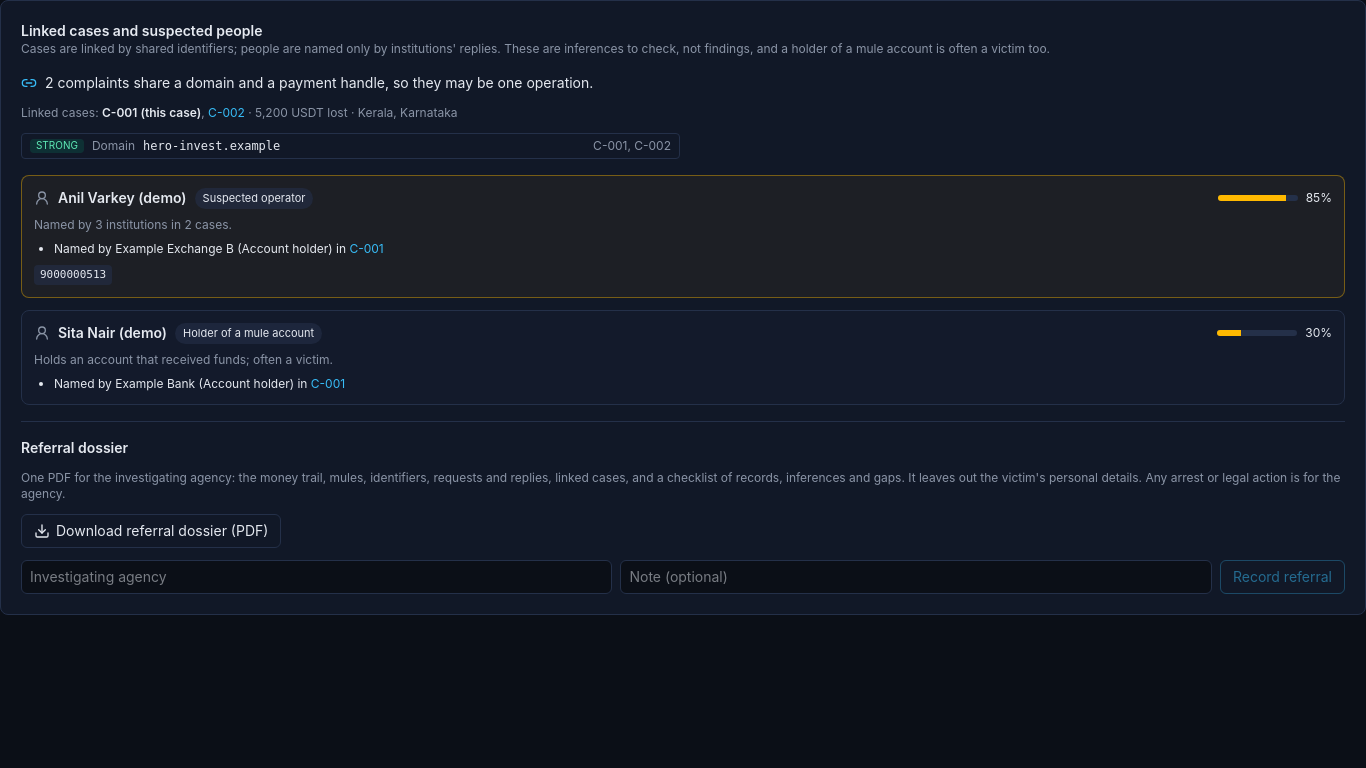
Test case: the people panel › shows the server message when the referral is refused
Step 1. Type "CBI" into the field labelled "agency" → (317, 576), box [21,560,612,594]
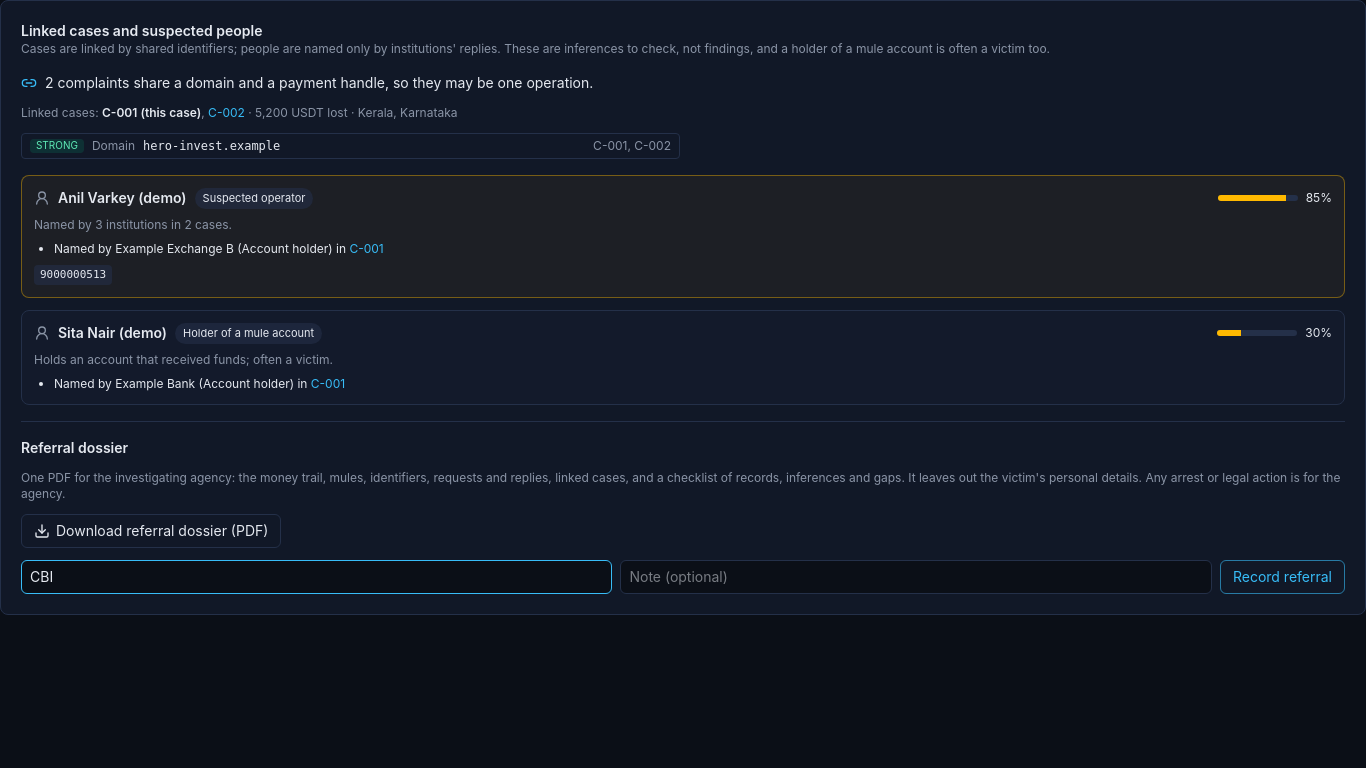
Step 2. Click the button "Record referral" → (1282, 576), box [1220,560,1345,594]
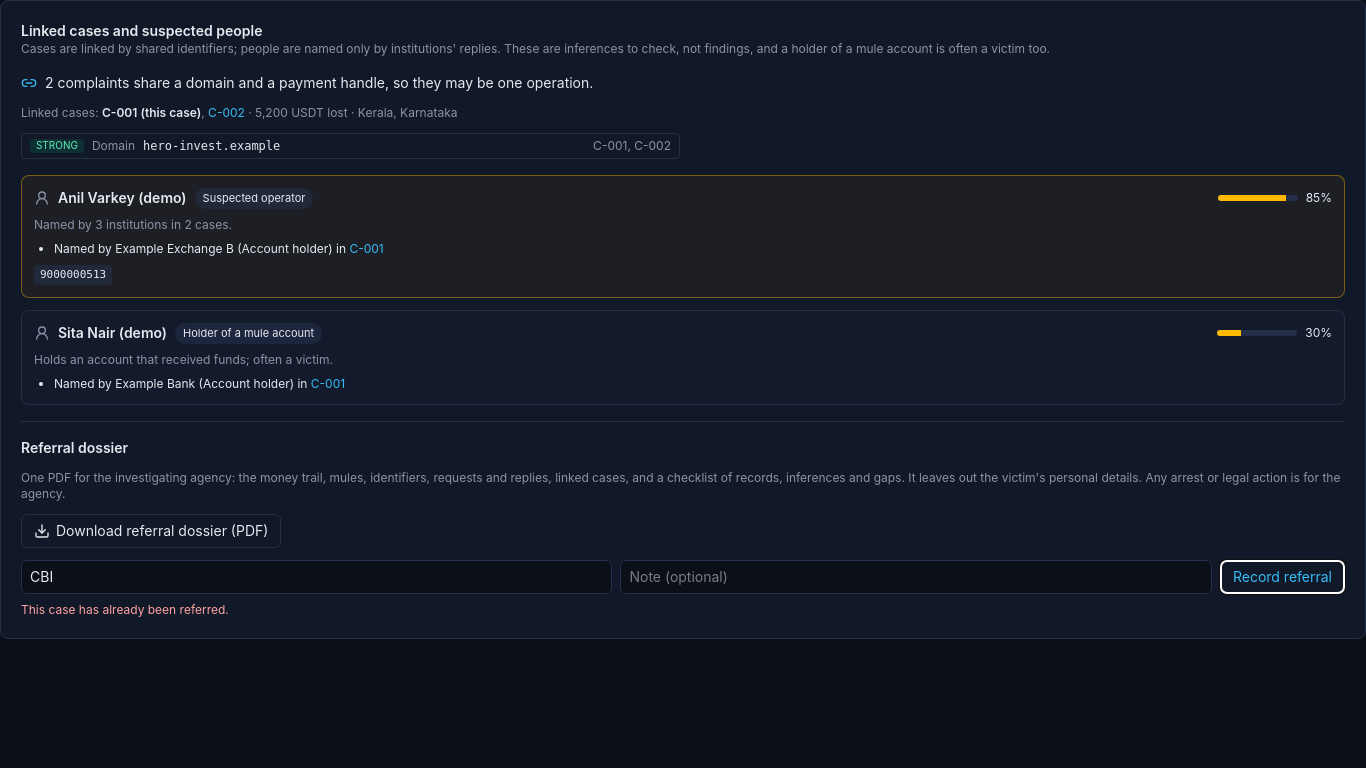
Now the message shows "already been referred", box [21,602,229,616]
